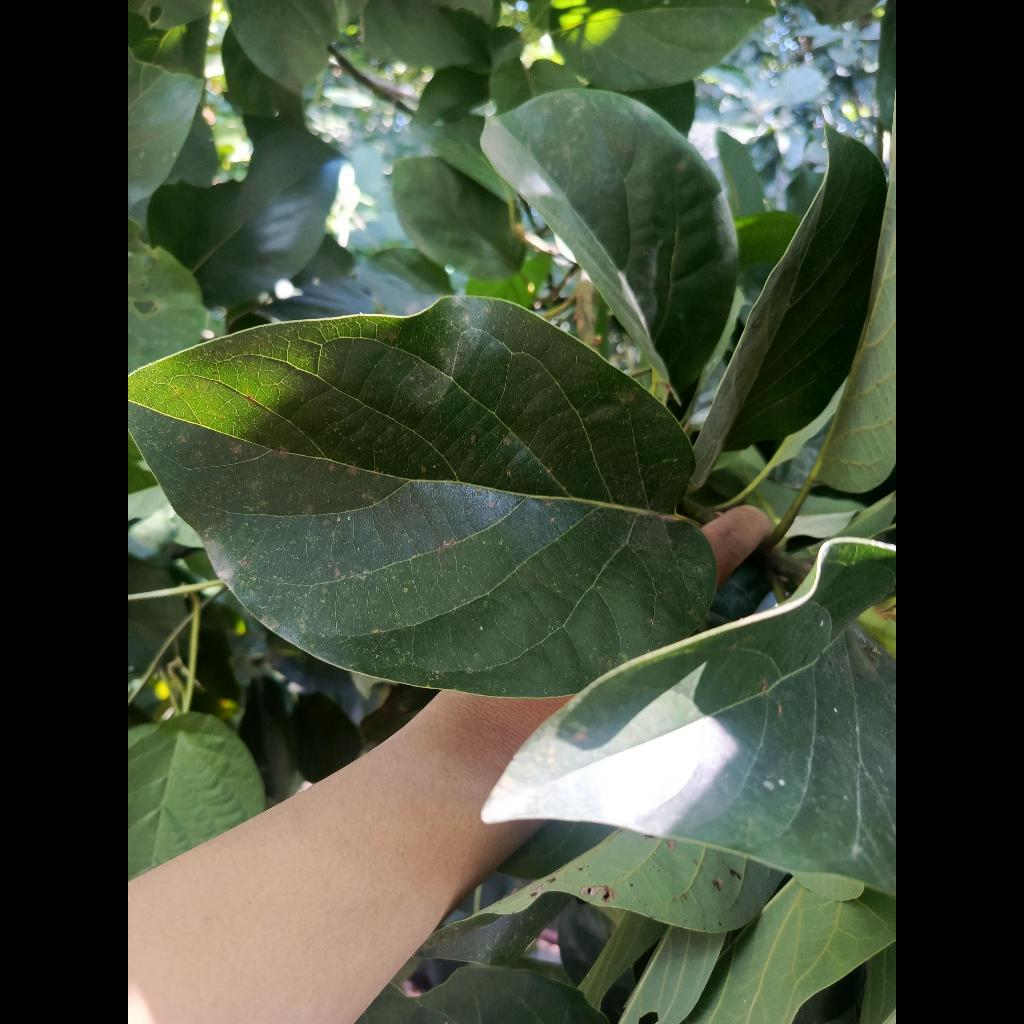antracnosis_hoja: (128, 298, 715, 697)
